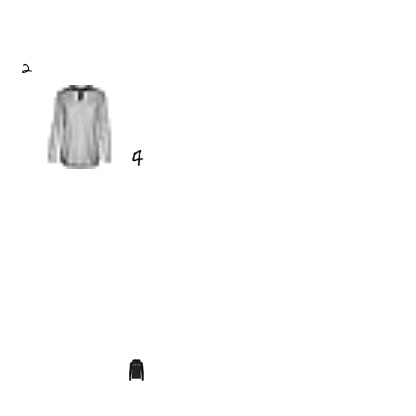2: (19, 62, 33, 76)
4: (126, 146, 148, 168)
Pullover: (125, 359, 147, 381)
Shirt: (36, 85, 120, 169)
